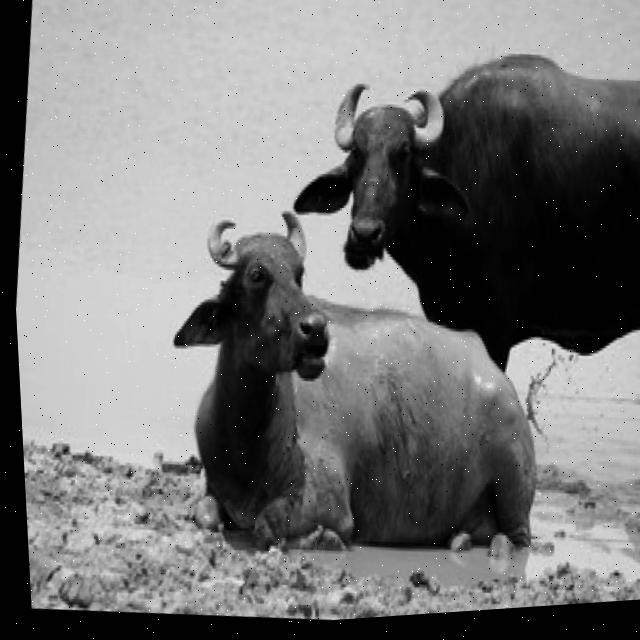Buffalo: (150, 195, 377, 549)
